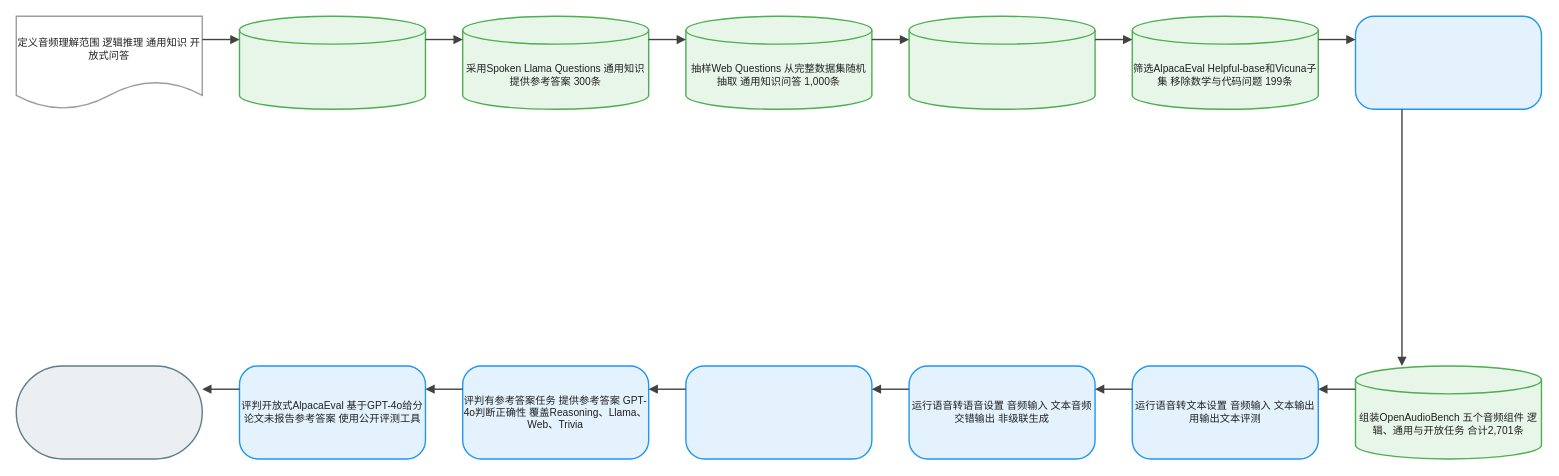
The diagram is 1559 pixels wide and 476 high, and some of its shapes have lost their labels. Here are the shapes that lost their labels. From the top down, the centre of each, then its label:
the point at 332,62: 自建Reasoning QA 百川团队构建音频任务 逻辑推理 202条
the point at 1001,62: 抽样TriviaQA 从完整数据集随机抽取 通用知识问答 1,000条
the point at 1448,62: 生成语音指令 使用作者TTS模型 转换Web、Trivia和Alpaca提示 保留Spoken Llama音频
the point at 109,412: 报告五项结果 按数据集给准确率或分数 分别报告ST与SS 分数越高越好
the point at 778,412: 归一化模型回答 合并SS交错输出中的文本 ST保留直接文本 形成评分输入
